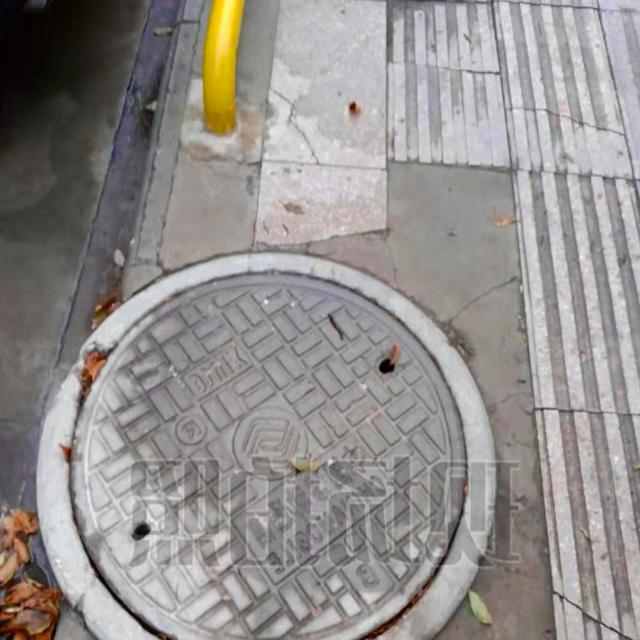good: (36, 249, 495, 640)
